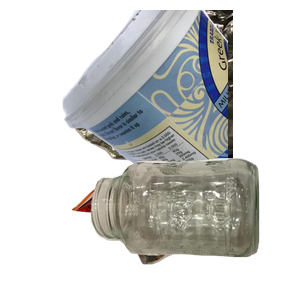glass: (88, 156, 300, 300)
metal: (60, 10, 300, 190)
plastic: (60, 10, 300, 190)
trash: (69, 153, 239, 300)
